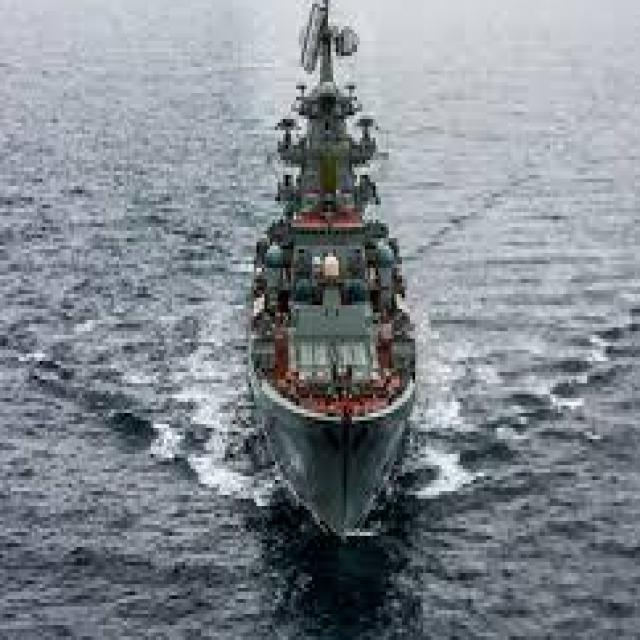navalvessels: (230, 7, 435, 526)
